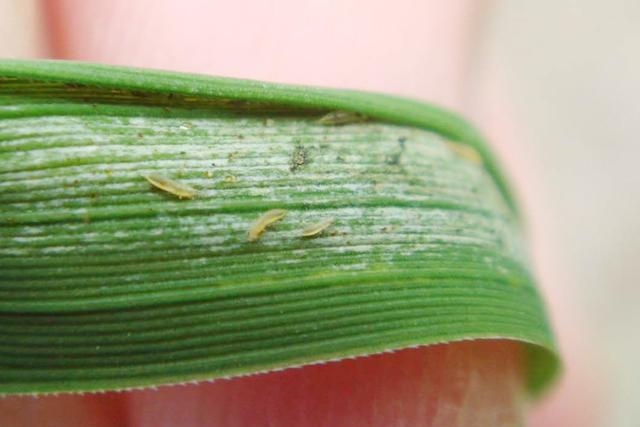thrips: (141, 171, 201, 202), (243, 207, 286, 242), (310, 109, 370, 125), (301, 213, 334, 238)
